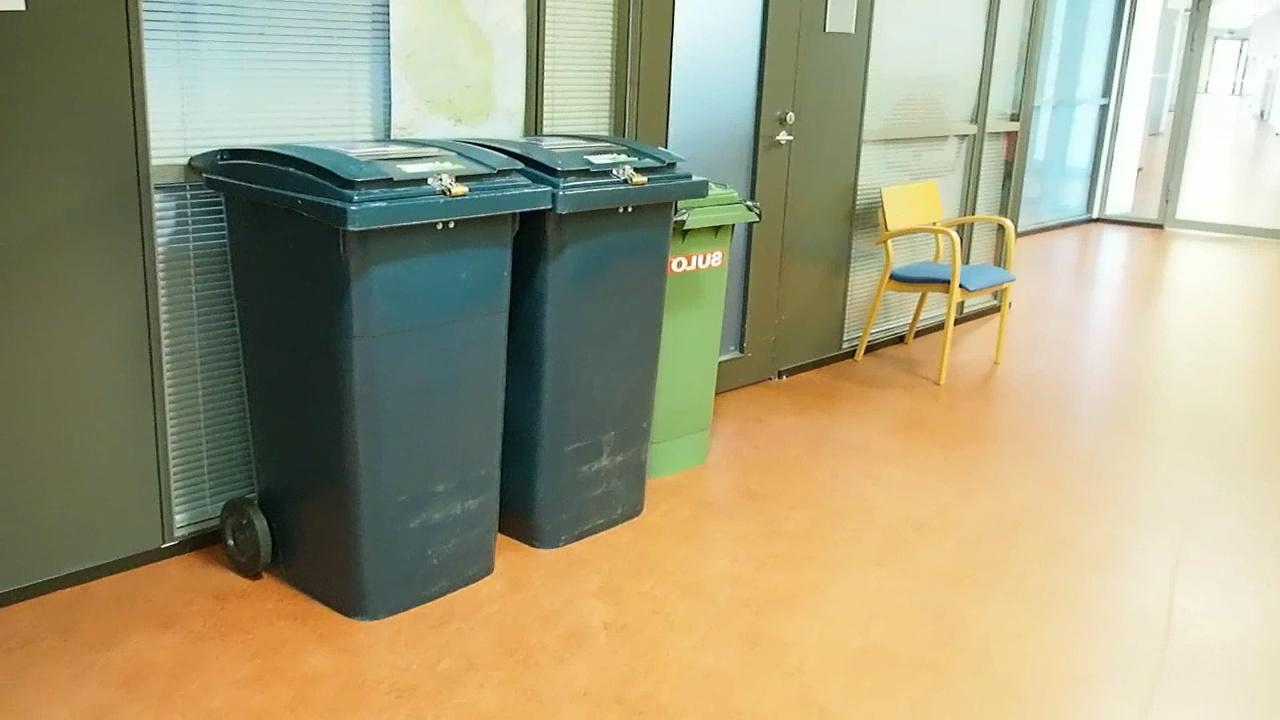chair: (858, 171, 1030, 374)
trashbin: (198, 135, 533, 611), (530, 133, 707, 556)
